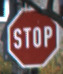stopsign: (8, 8, 60, 68)
